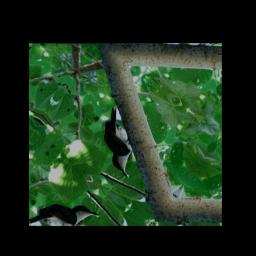Cuckoo: (83, 105, 158, 179)
